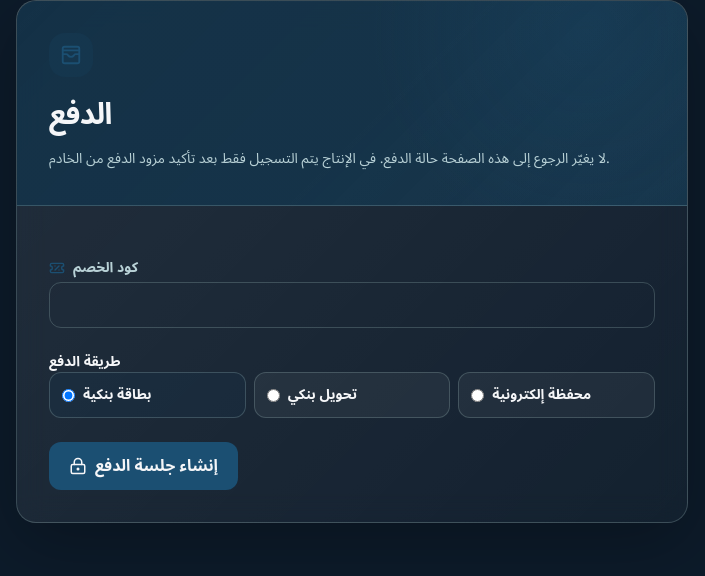
Test case: T7-A6.4 ar UI and financial contracts › checkout fallback preserves error or disabled behavior
Click the button "إنشاء جلسة الدفع" at (143,466), box [49,442,238,490]
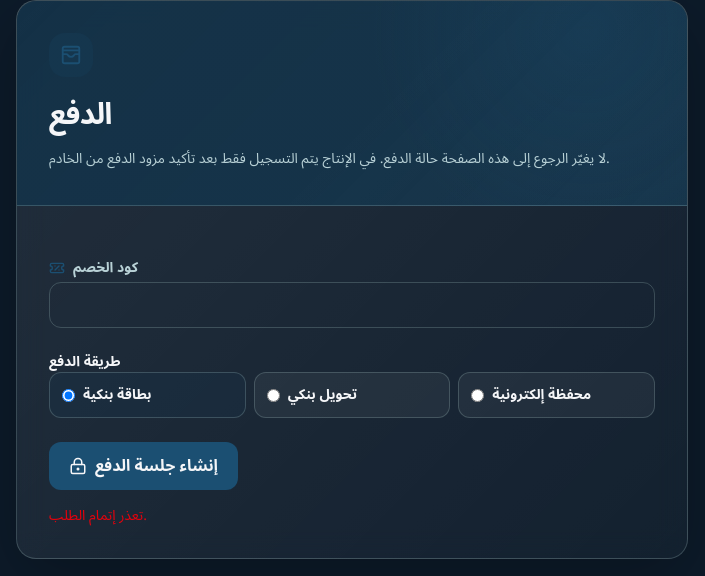
Result: the message reads "تعذر إتمام الطلب." at [49,501,147,530]
